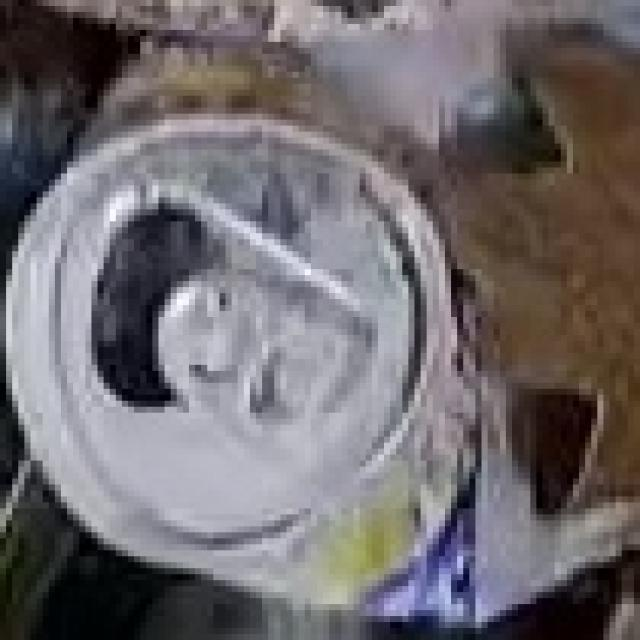litter: (1, 123, 626, 620)
